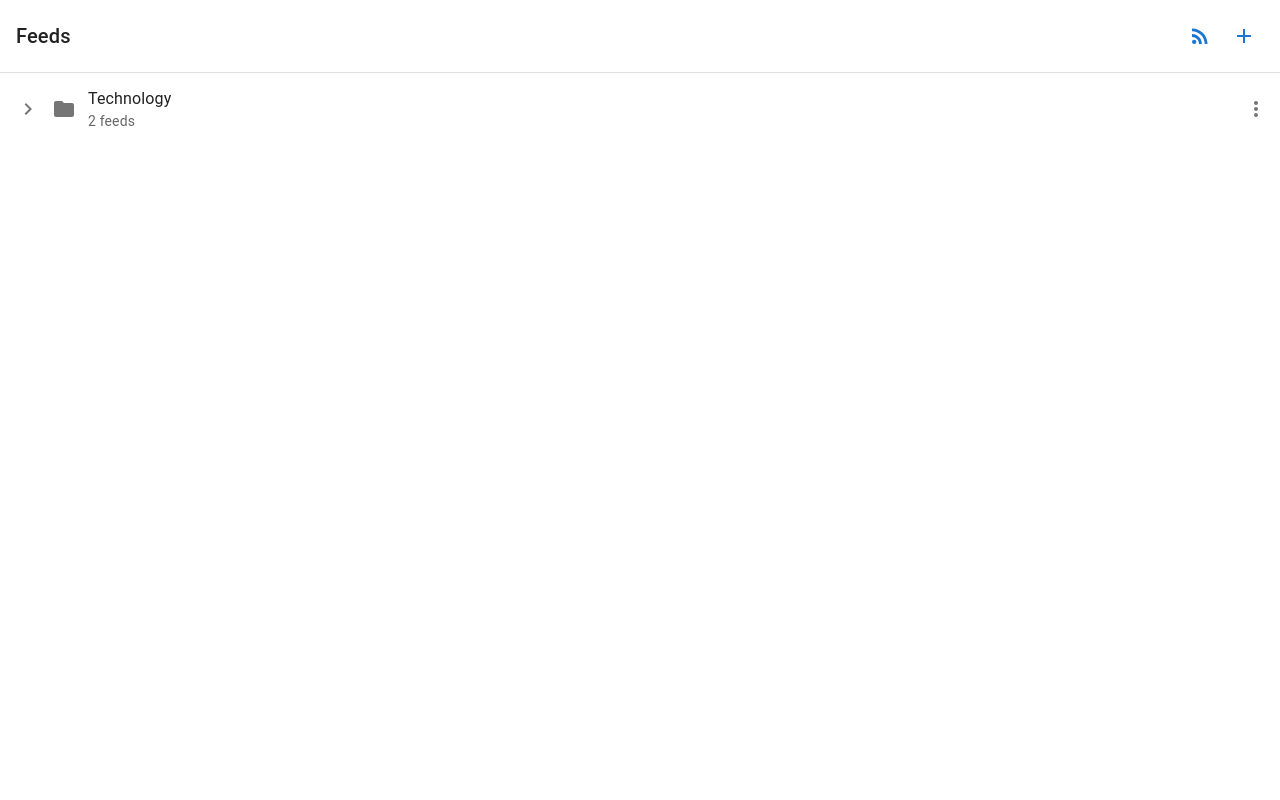
CategoryList › category creation › should open create dialog when clicking add button
Step 1. Click the button named "add category" → (1244, 36), box [1224,16,1264,56]
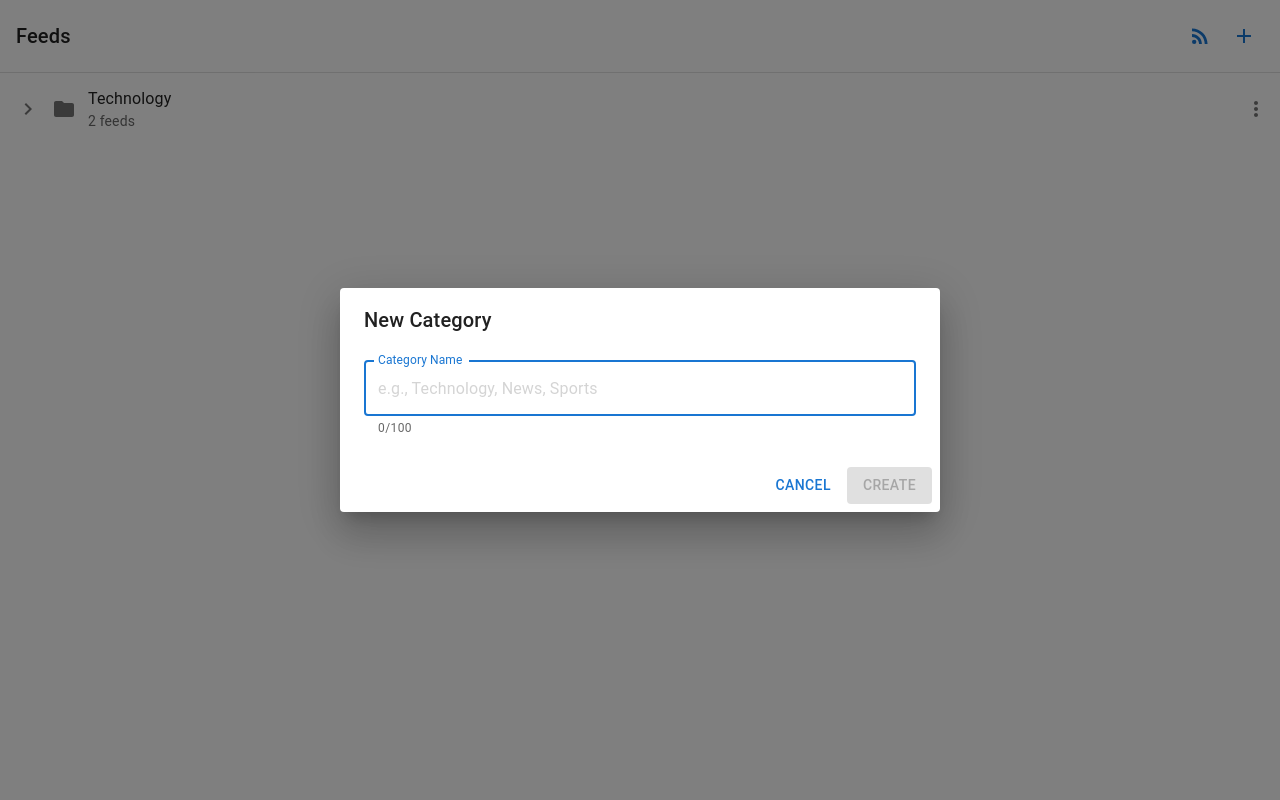
Expected: the heading "New Category" is shown, [364,308,492,332]
